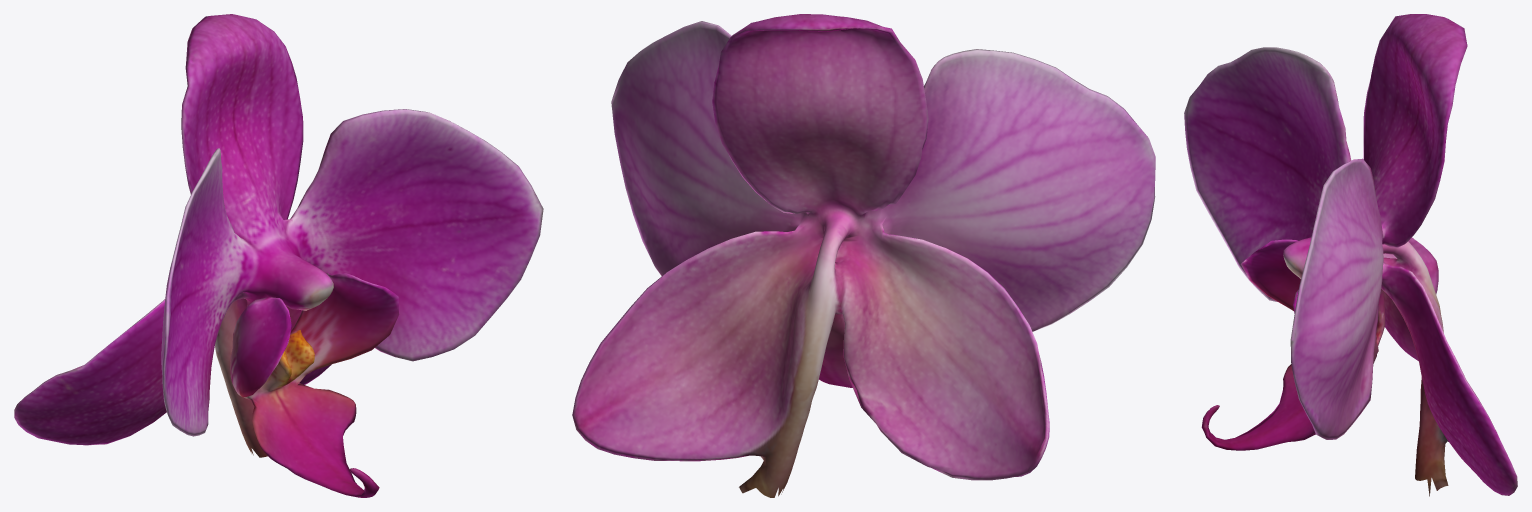
File: orchid.glb
3 views of the same model, side by side, from view 1: azimuth 30°, elevation 25°; view 2: azimuth 150°, elevation 25°; view 3: azimuth 270°, elevation 25° (orthographic). The views are drawn at different scales.
Parts seen in each view (by area): view 1: Object_2; view 2: Object_2; view 3: Object_2.
Boxes of the visible parts, bbox=[...] form: Object_2: bbox=[14, 14, 543, 497]; Object_2: bbox=[572, 14, 1155, 497]; Object_2: bbox=[1184, 14, 1517, 496].
Bounding box in the file's own units: 0.3571 × 0.3301 × 0.2265.
1 material, 1 textured.
